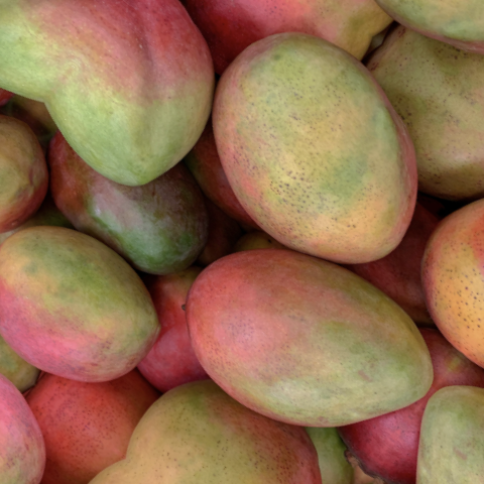mango: (107, 151, 478, 484), (152, 0, 483, 309), (18, 0, 264, 228), (0, 193, 193, 420)
